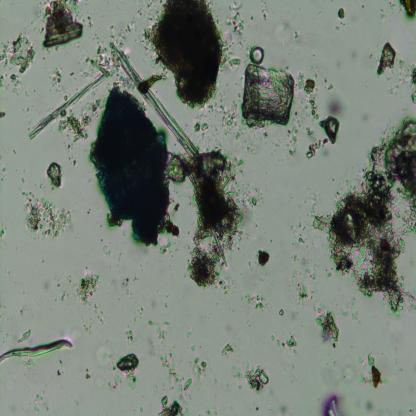Background material: (329, 119, 416, 311), (169, 153, 247, 294), (107, 46, 199, 158), (150, 0, 226, 107), (28, 62, 108, 140), (240, 65, 294, 127), (20, 188, 72, 240), (78, 19, 128, 72), (0, 329, 74, 362), (42, 0, 85, 48), (289, 219, 318, 285), (270, 12, 305, 60), (0, 34, 36, 72), (92, 337, 118, 388), (114, 346, 140, 394), (358, 352, 388, 390), (297, 72, 320, 121), (238, 128, 274, 159), (315, 308, 341, 350), (39, 273, 76, 302), (334, 293, 366, 325), (60, 112, 90, 146), (197, 126, 225, 158), (74, 273, 100, 307), (226, 0, 246, 41), (160, 354, 182, 390), (244, 364, 270, 394), (216, 101, 238, 136), (23, 388, 52, 414), (318, 115, 342, 146), (377, 41, 396, 76), (269, 331, 297, 351), (244, 186, 264, 214), (304, 138, 330, 159), (157, 394, 183, 415), (116, 268, 134, 298), (319, 392, 340, 415), (46, 160, 63, 188), (327, 92, 346, 117), (256, 0, 274, 25), (294, 283, 311, 308), (397, 0, 416, 21), (407, 65, 416, 108), (255, 247, 273, 268), (321, 67, 336, 92), (287, 126, 298, 159), (191, 358, 206, 382), (313, 212, 329, 233), (249, 45, 265, 65), (248, 292, 266, 309), (49, 68, 64, 88), (64, 148, 78, 167), (221, 340, 233, 360), (100, 236, 112, 255), (9, 71, 22, 88), (0, 164, 12, 182), (192, 121, 210, 132), (0, 218, 10, 236), (95, 314, 107, 328), (226, 57, 241, 68), (304, 124, 315, 138), (182, 376, 192, 391), (156, 328, 166, 342), (337, 7, 345, 21), (126, 332, 132, 344), (145, 320, 154, 327), (0, 72, 4, 85), (59, 370, 64, 378), (0, 113, 7, 118)
Fragment: (89, 83, 170, 241)
